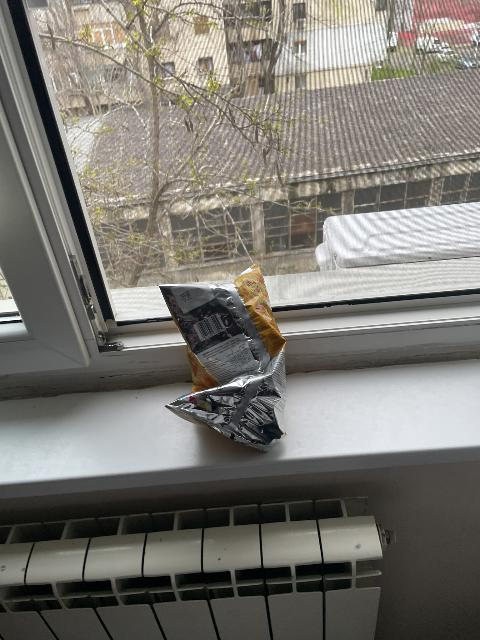Chio Hula Hoops Cheese 70g: (158, 264, 290, 449)
